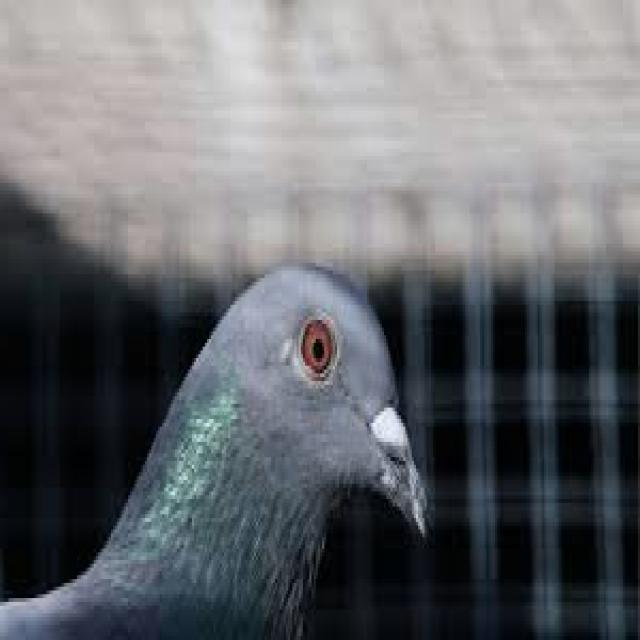pigeon: (2, 267, 427, 636)
